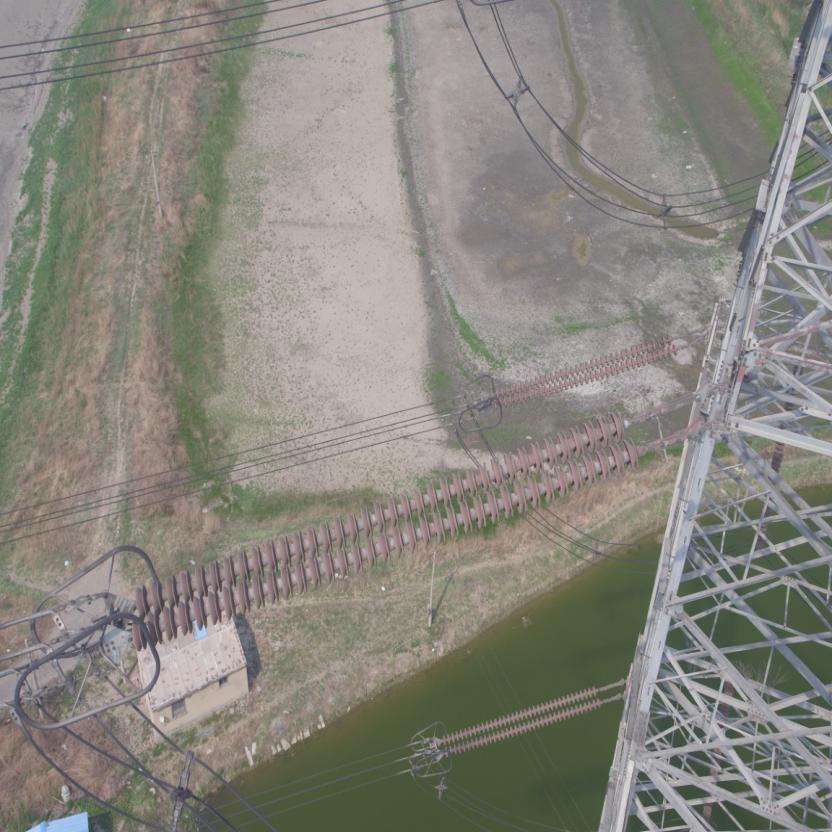insulator: (122, 405, 665, 657), (486, 330, 689, 406), (441, 678, 608, 758)
